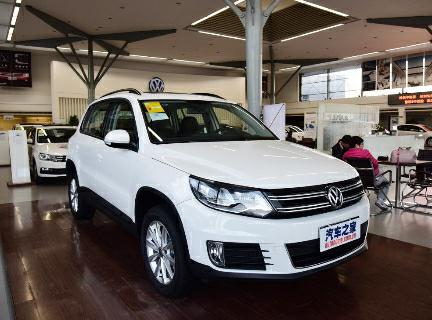大众-途观: (58, 87, 380, 300)
